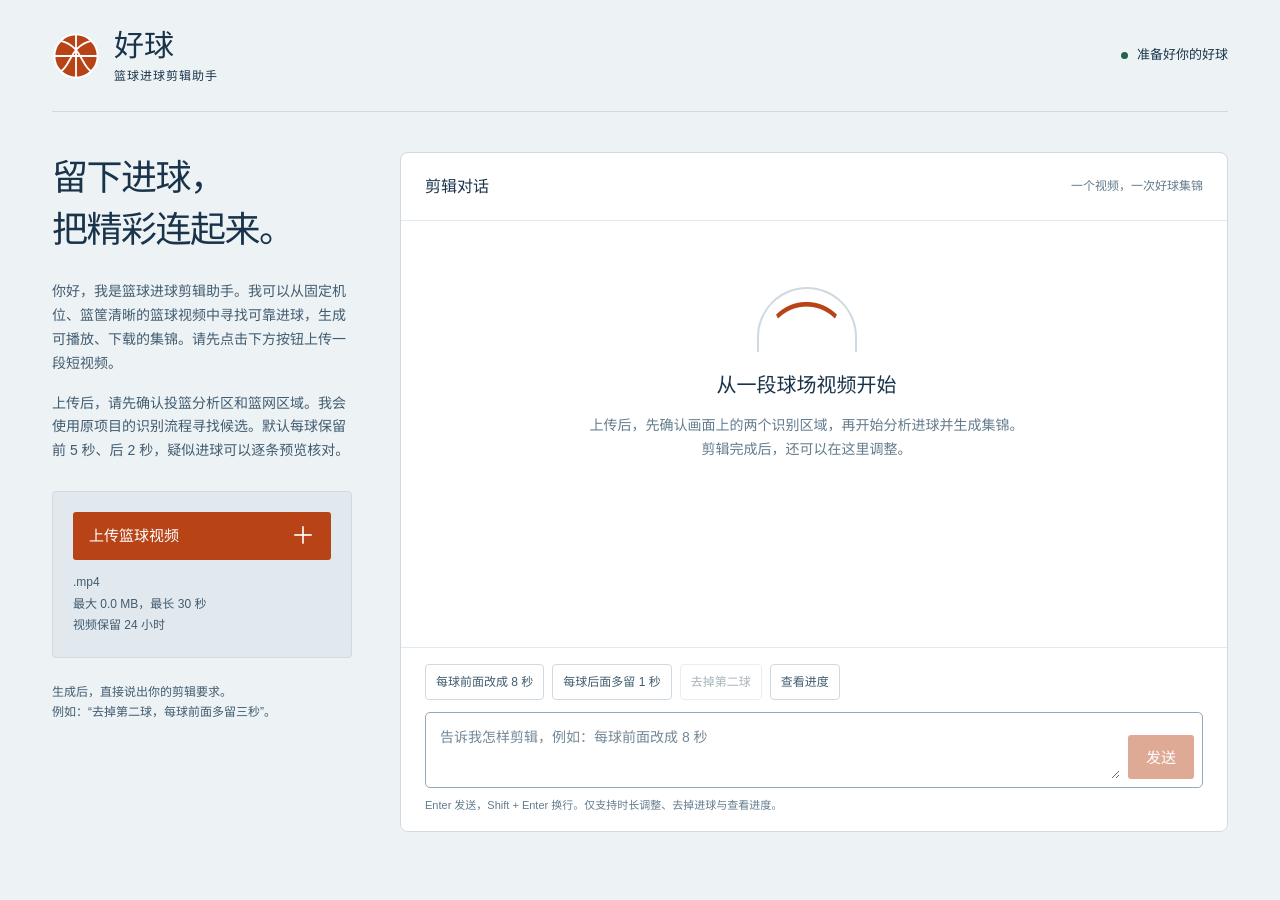
Scenario: instruction before upload explains next action without API submission
This screenshot has width=1280, height=900.
Type "去掉第二球" into the text box at (777, 750), box x1=434 y1=721 x2=1120 y2=779
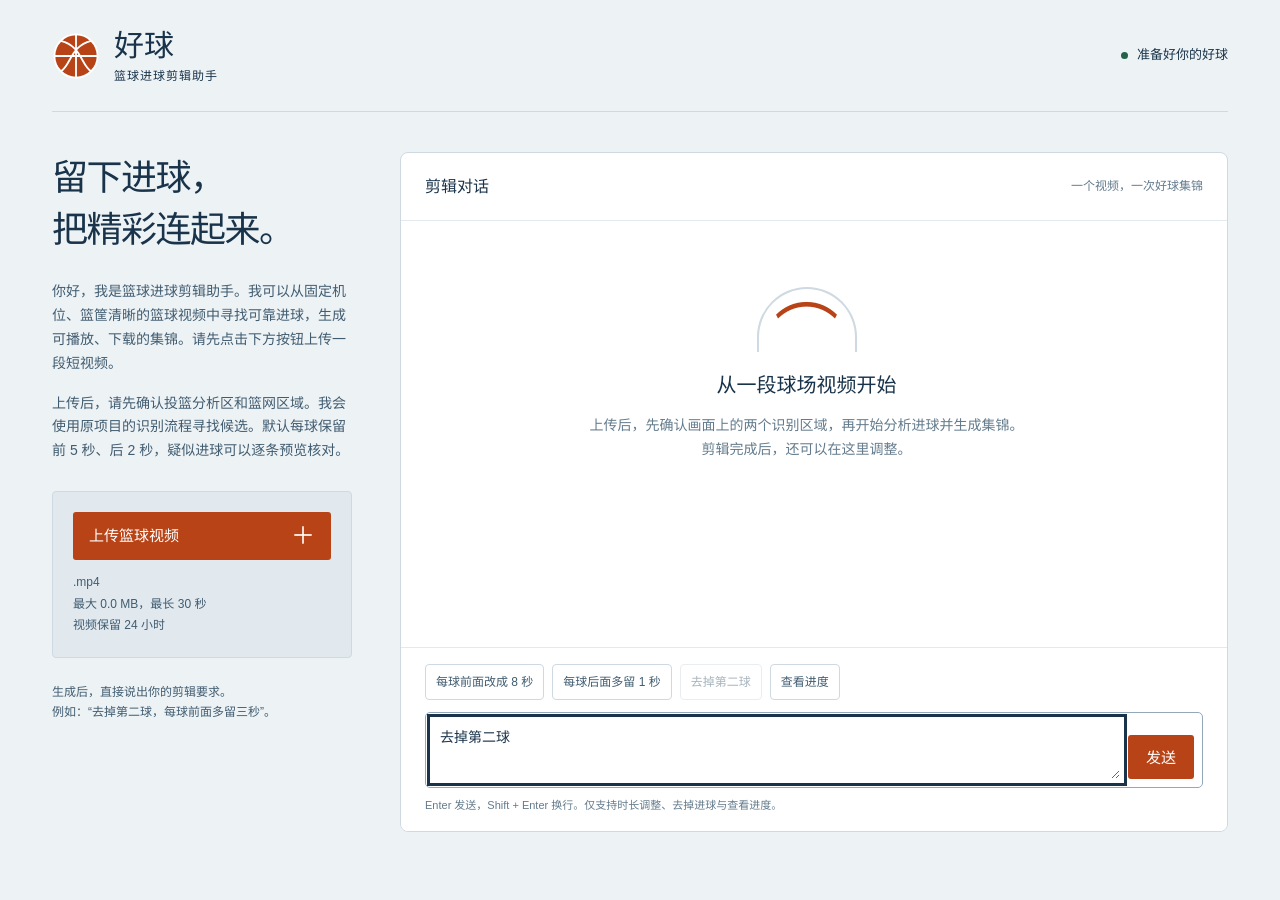
Click the button "发送" at (1161, 757), box x1=1128 y1=735 x2=1194 y2=779
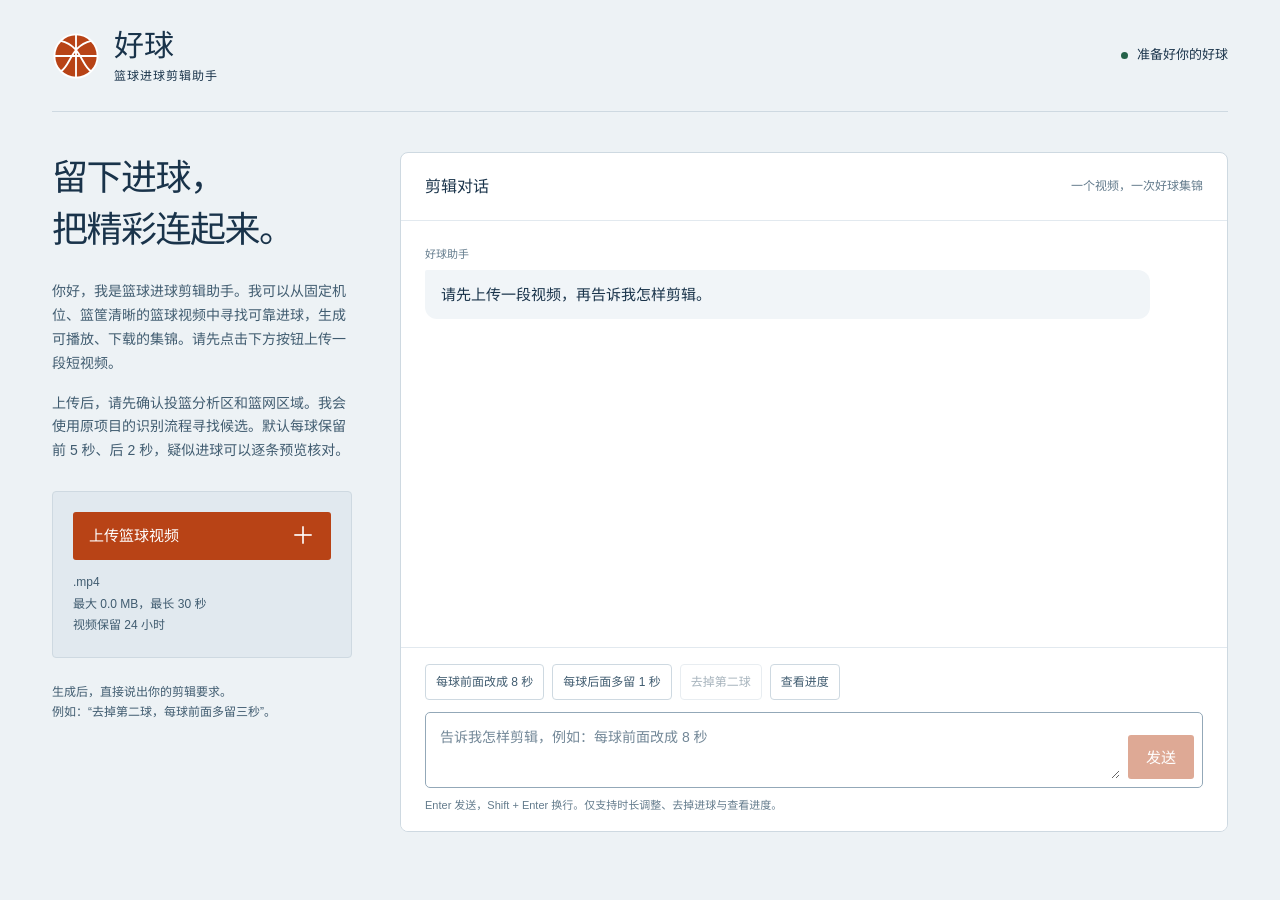
Expected: the text "请先上传一段视频，再告诉我怎样剪辑。" is shown, x1=425 y1=270 x2=1150 y2=319
